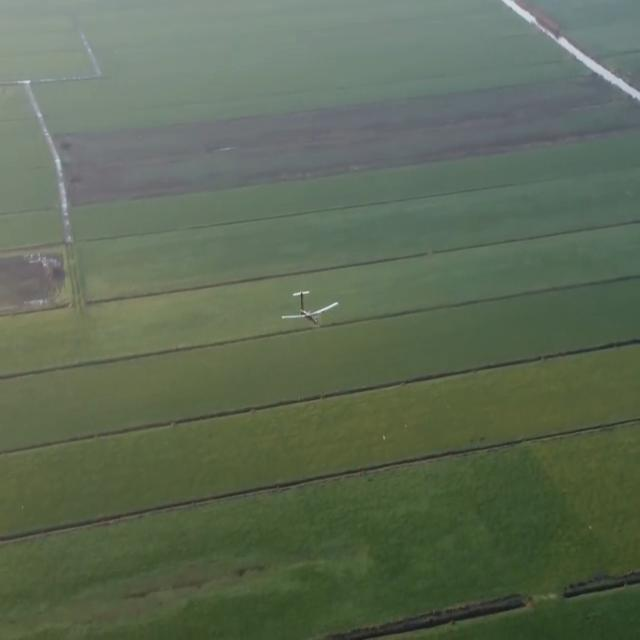iha: (282, 282, 338, 332)
